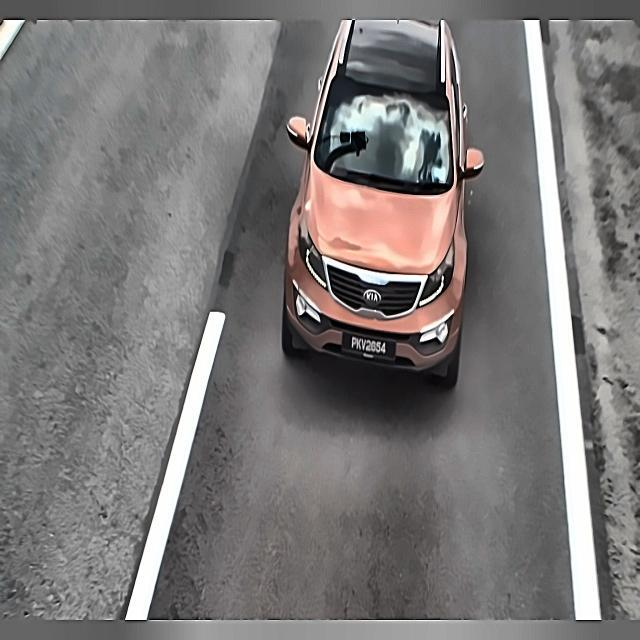car: (343, 319, 394, 367)
